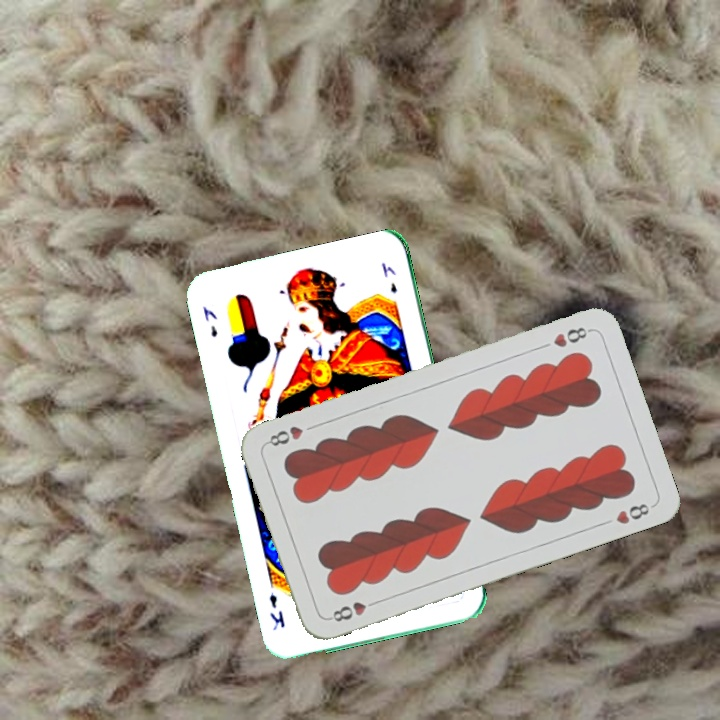EK: (199, 302, 220, 340)
H8: (324, 596, 382, 625), (549, 323, 594, 350)
